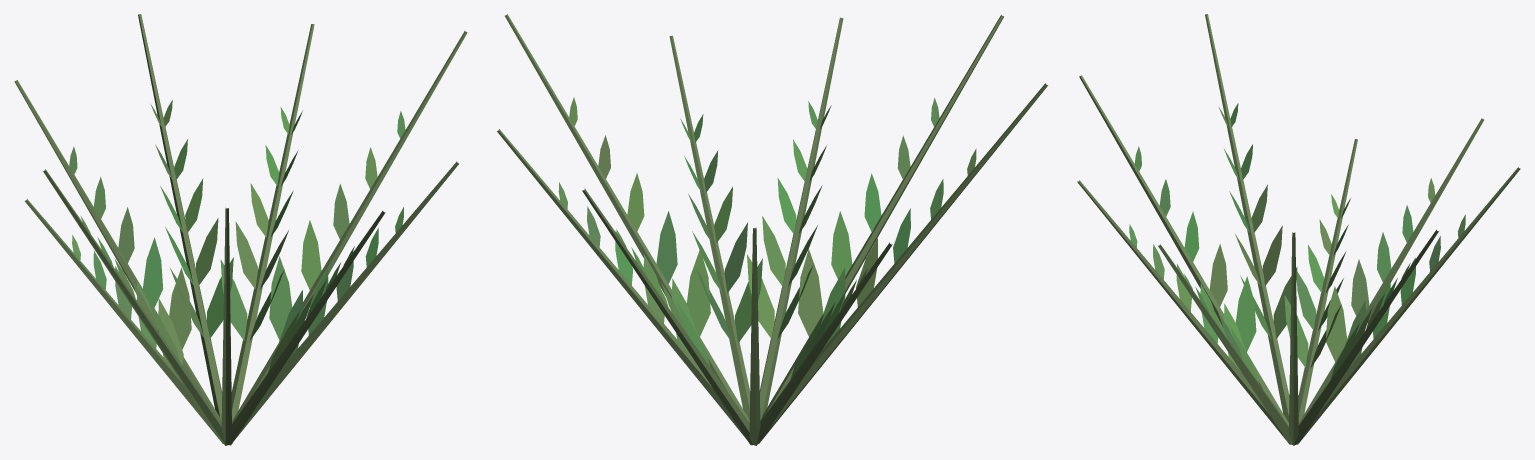
The model's file is fern-02.glb.
3 renders of one model, left to right at view 1: azimuth 30°, elevation 25°; view 2: azimuth 150°, elevation 25°; view 3: azimuth 270°, elevation 25°, orthographic. The views are drawn at different scales.
Visible parts, largest first — view 1: part_000; view 2: part_000; view 3: part_000.
Part boxes in pixels (box(x1,y1,x2,y2)): part_000: box(14, 14, 467, 445); part_000: box(497, 14, 1047, 445); part_000: box(1077, 14, 1520, 445).
Size of the model in its own units: 1.18 by 0.8722 by 1.07.
